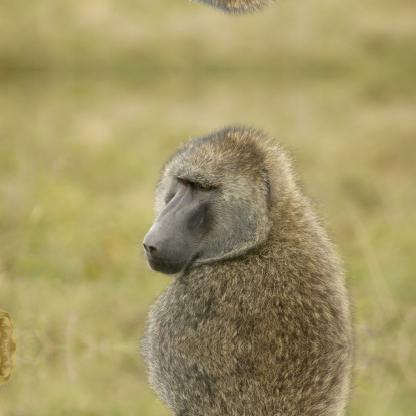Monkey: (134, 119, 362, 346), (133, 346, 363, 415)
